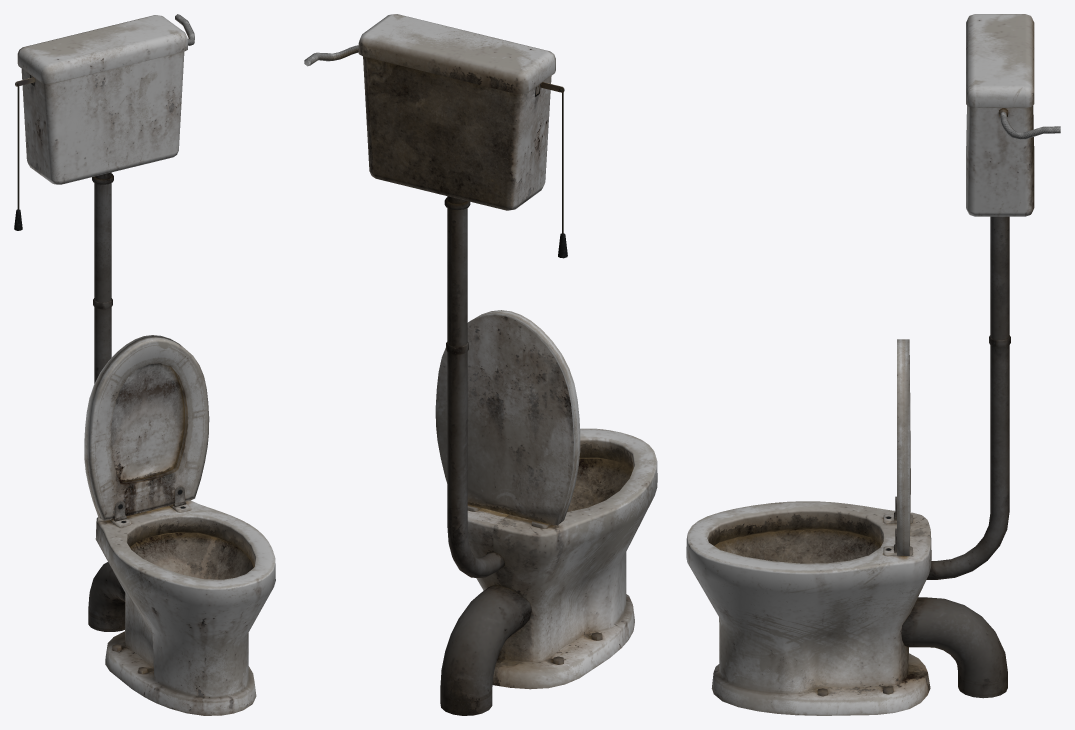
The model's file is Toilet_01.fbx.
The picture shows the model from 3 angles, left to right: view 1: azimuth 30°, elevation 25°; view 2: azimuth 150°, elevation 25°; view 3: azimuth 270°, elevation 25°; orthographic projection. The views are drawn at different scales.
Parts seen in each view (by area): view 1: polySurface111; view 2: polySurface111; view 3: polySurface111.
Part boxes in pixels (x1,y1,x2,y2): polySurface111: [14, 14, 275, 715]; polySurface111: [304, 14, 657, 715]; polySurface111: [686, 14, 1060, 715].
Size of the model in its own units: 83.52 by 235 by 125.
